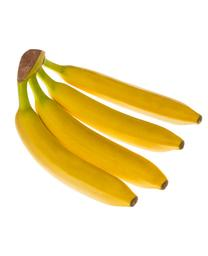banana: (14, 48, 195, 191)
